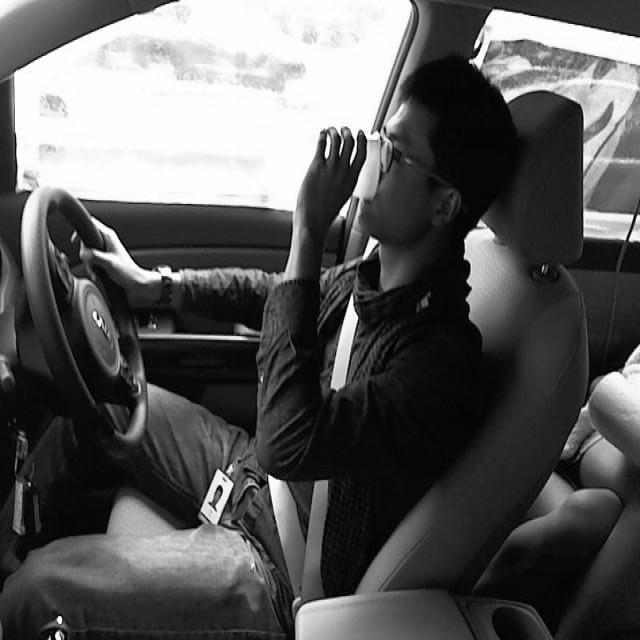drinking: (308, 111, 386, 202)
